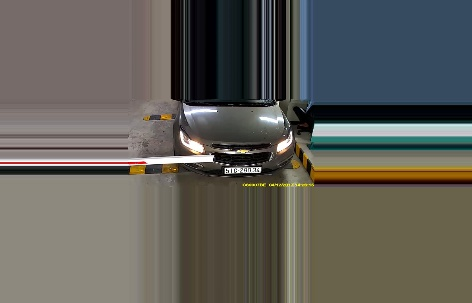plate: (221, 162, 262, 175)
